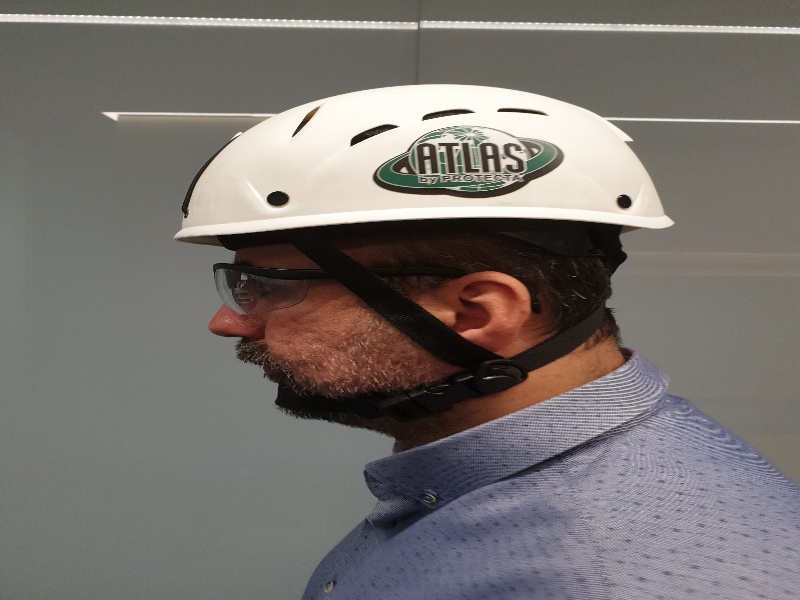Baret: (173, 83, 673, 235)
Gozluk: (210, 261, 464, 317)
